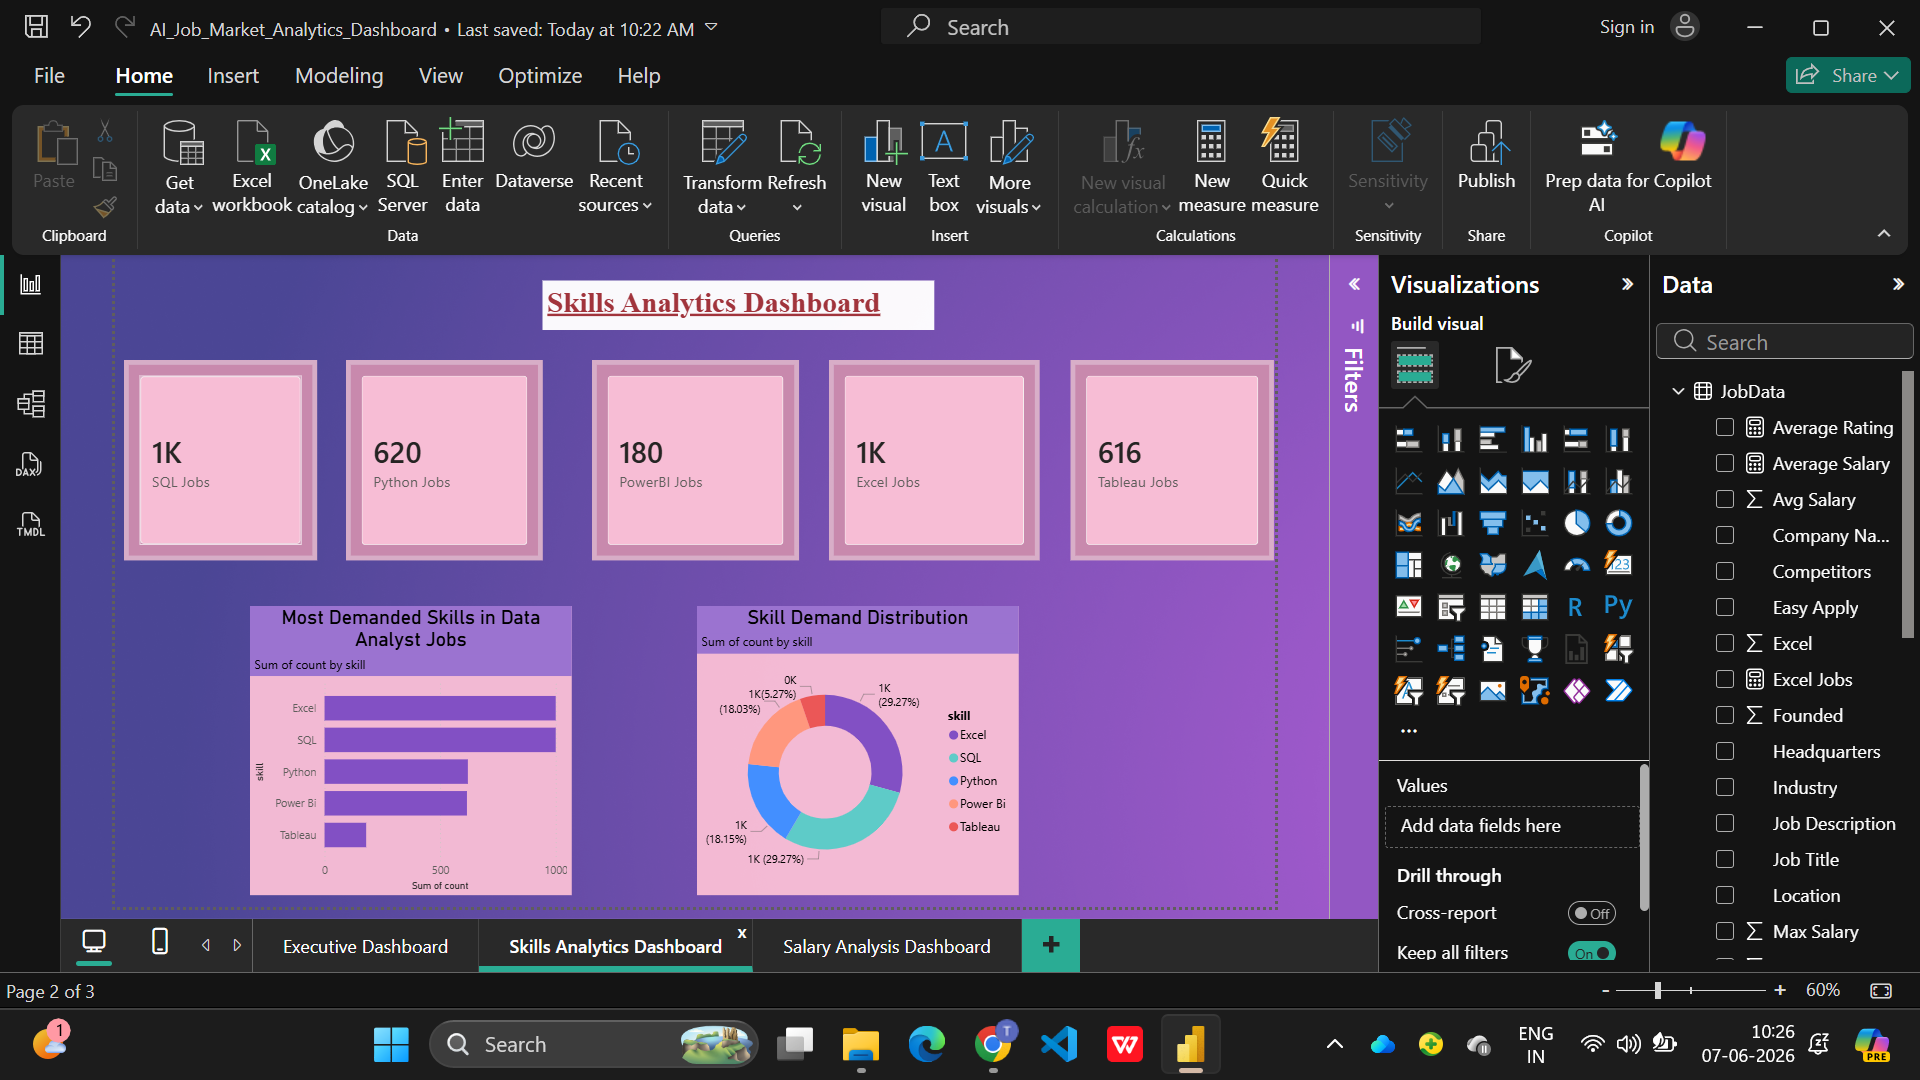

This screenshot's page, from the dashboard's own definition file:
{"tool":"powerbi","page":{"name":"Skills Analytics Dashboard ","canvas":[1280,720],"ordinal":1},"visuals":[{"type":"cardVisual","fields":{"Data":["JobData.SQL Jobs"]},"box":[9.4,115.3,213.5,221.1],"z":0},{"type":"cardVisual","fields":{"Data":["JobData.Python Jobs"]},"box":[255.1,115.3,217.3,221.1],"z":1000},{"type":"cardVisual","fields":{"Data":["JobData.PowerBI Jobs"]},"box":[527.2,115.3,228.7,221.1],"z":2000},{"type":"cardVisual","fields":{"Data":["JobData.Excel Jobs"]},"box":[788,115.3,232.4,221.1],"z":3000},{"type":"cardVisual","fields":{"Data":["JobData.Tableau Jobs"]},"box":[1054.5,115.3,224.9,221.1],"z":4000},{"type":"clusteredBarChart","title":"Most Demanded Skills in Data Analyst Jobs","fields":{"Category":["skillssummary.skill"],"Y":["Sum(skillssummary.count)"]},"box":[149.3,387.4,355.3,319.4],"z":4001},{"type":"donutChart","title":"Skill Demand Distribution","fields":{"Category":["skillssummary.skill"],"Y":["Sum(skillssummary.count)"]},"box":[642.5,387.4,355.3,319.4],"z":4002},{"type":"textbox","box":[472.4,28.3,432.8,54.8],"z":4003}]}

Visuals, with their boxes on the page's 1280x720 design canvas (x1, y1, x2, y2). These are canvas units, not pixel positions in the 1920x1080 screenshot, which may show the page scaled, cropped or inside an application window:
cardVisual - JobData.SQL Jobs: box=[9, 115, 223, 336]
cardVisual - JobData.Python Jobs: box=[255, 115, 472, 336]
cardVisual - JobData.PowerBI Jobs: box=[527, 115, 756, 336]
cardVisual - JobData.Excel Jobs: box=[788, 115, 1020, 336]
cardVisual - JobData.Tableau Jobs: box=[1054, 115, 1279, 336]
"Most Demanded Skills in Data Analyst Jobs" clusteredBarChart: box=[149, 387, 505, 707]
"Skill Demand Distribution" donutChart: box=[642, 387, 998, 707]
textbox: box=[472, 28, 905, 83]
